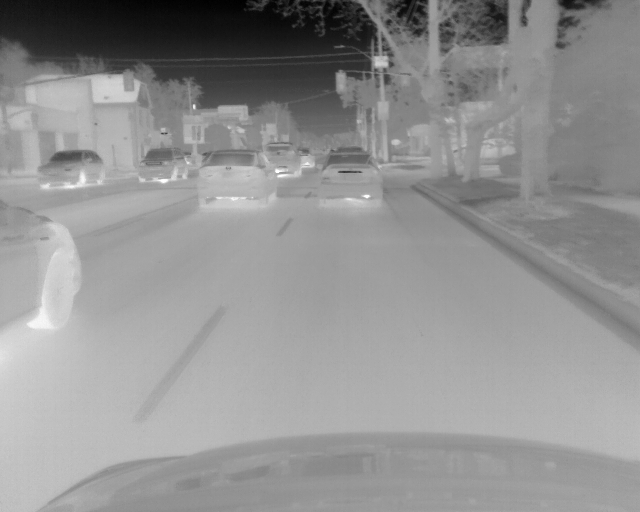car: (1, 195, 85, 337), (197, 149, 279, 208), (320, 151, 382, 209), (35, 148, 106, 192), (135, 145, 189, 184), (263, 143, 302, 178), (296, 147, 315, 167)
